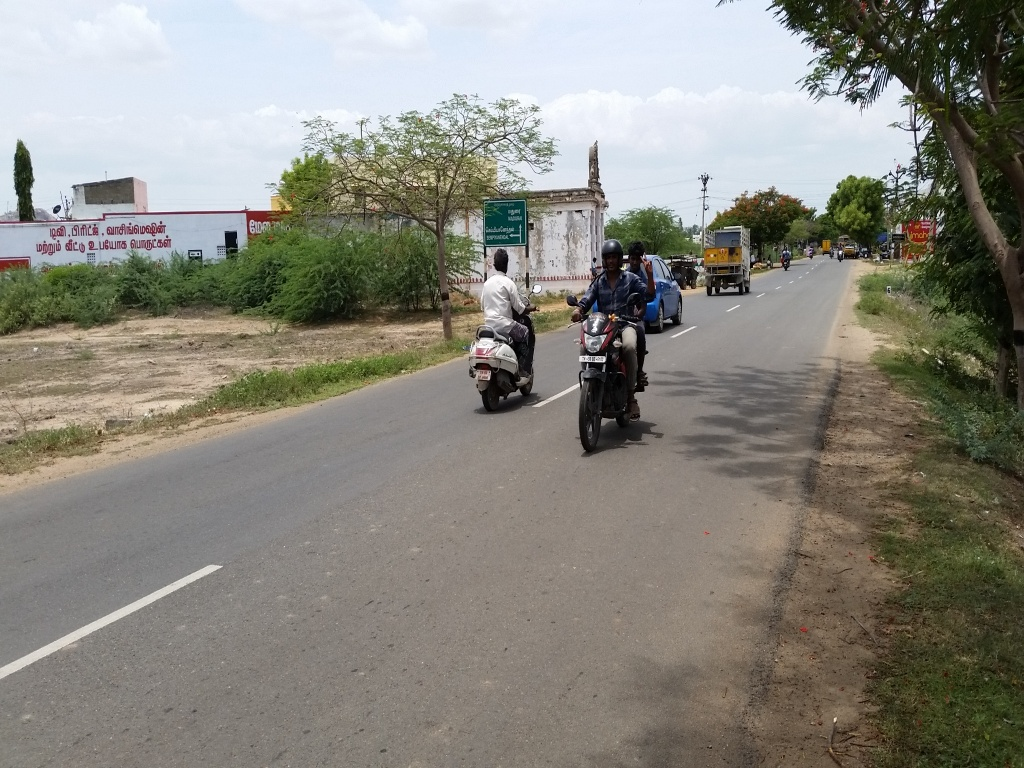biker: (562, 198, 675, 465), (455, 218, 560, 425)
helmet: (597, 238, 629, 281)
nohelmet: (486, 240, 523, 282), (628, 238, 654, 278)
